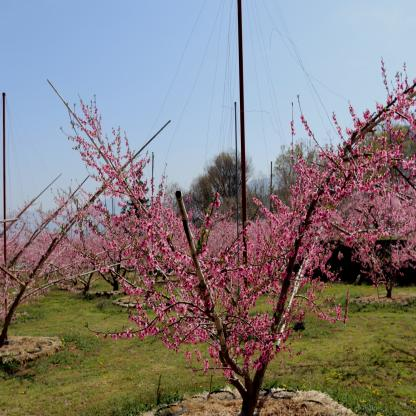Momo: (47, 57, 416, 385), (326, 161, 416, 282), (92, 214, 195, 276), (191, 209, 288, 269), (0, 226, 96, 284)
